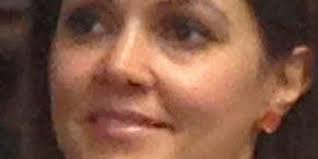middle_eastern_Female: (45, 2, 310, 159)
